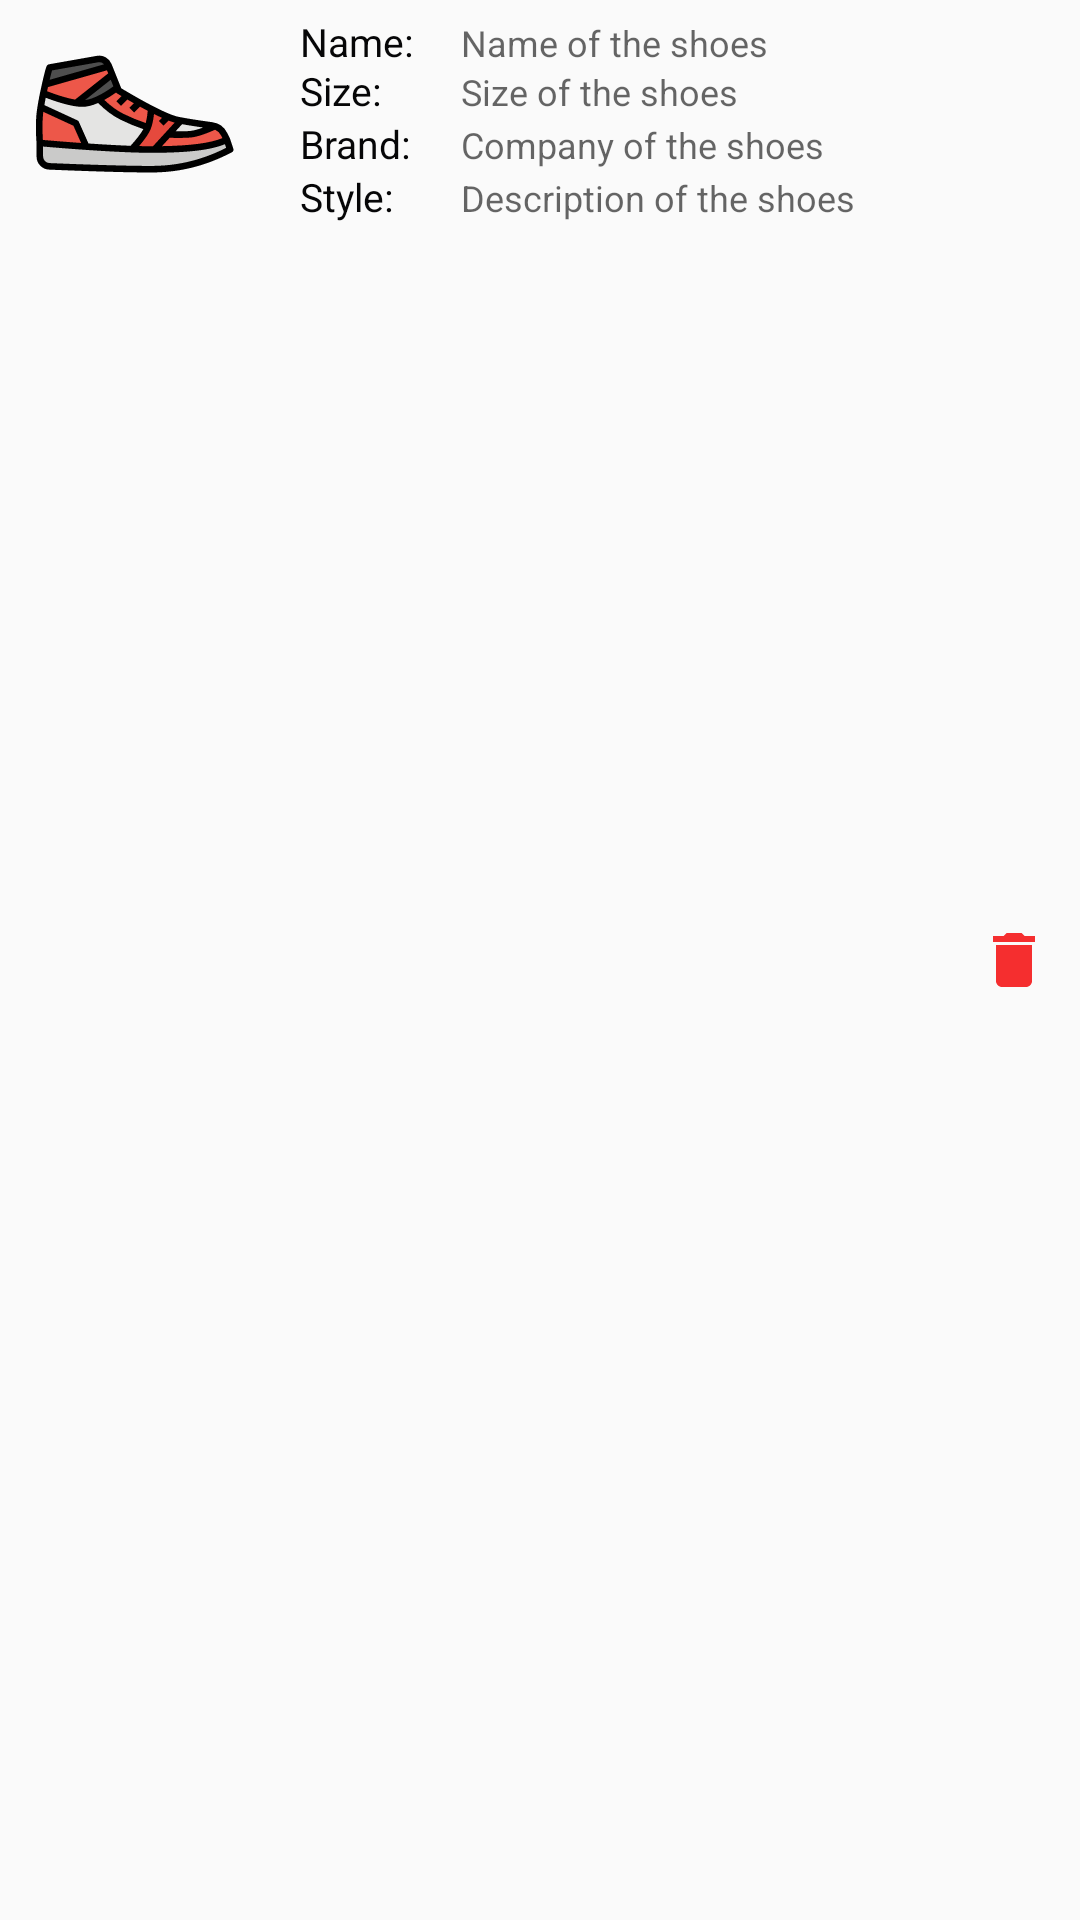

Icon bounding boxes for this 1080x1920 phone screenshot, format (x1, y1, x2, y2):
image delete: (993, 933, 1035, 987)
jordan shoes: (36, 55, 234, 173)
